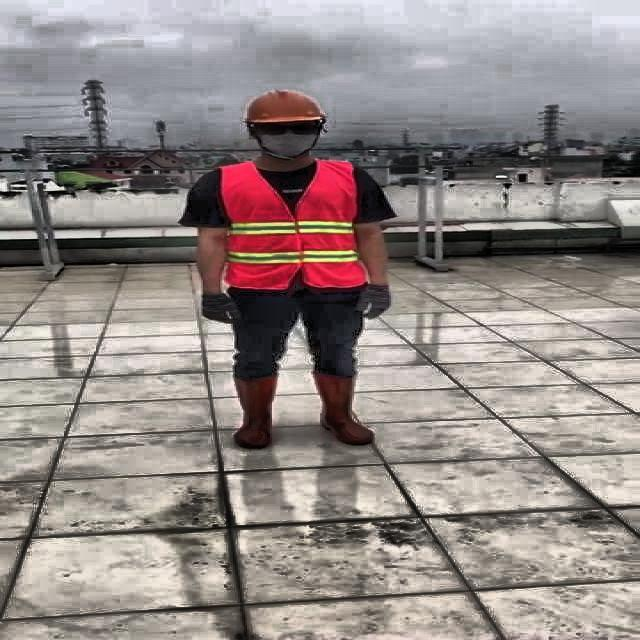safety_jacket: (210, 164, 370, 288)
